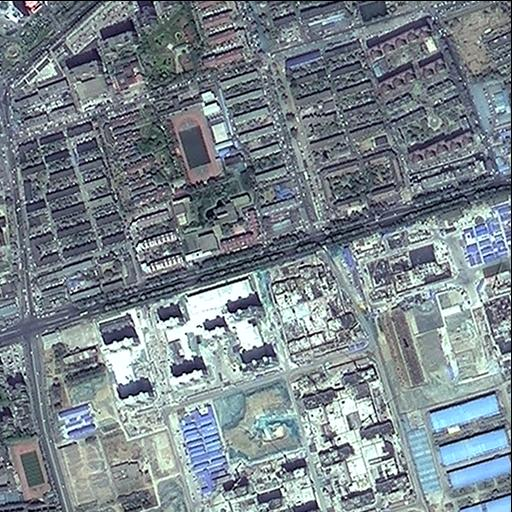school: (151, 85, 236, 183)
